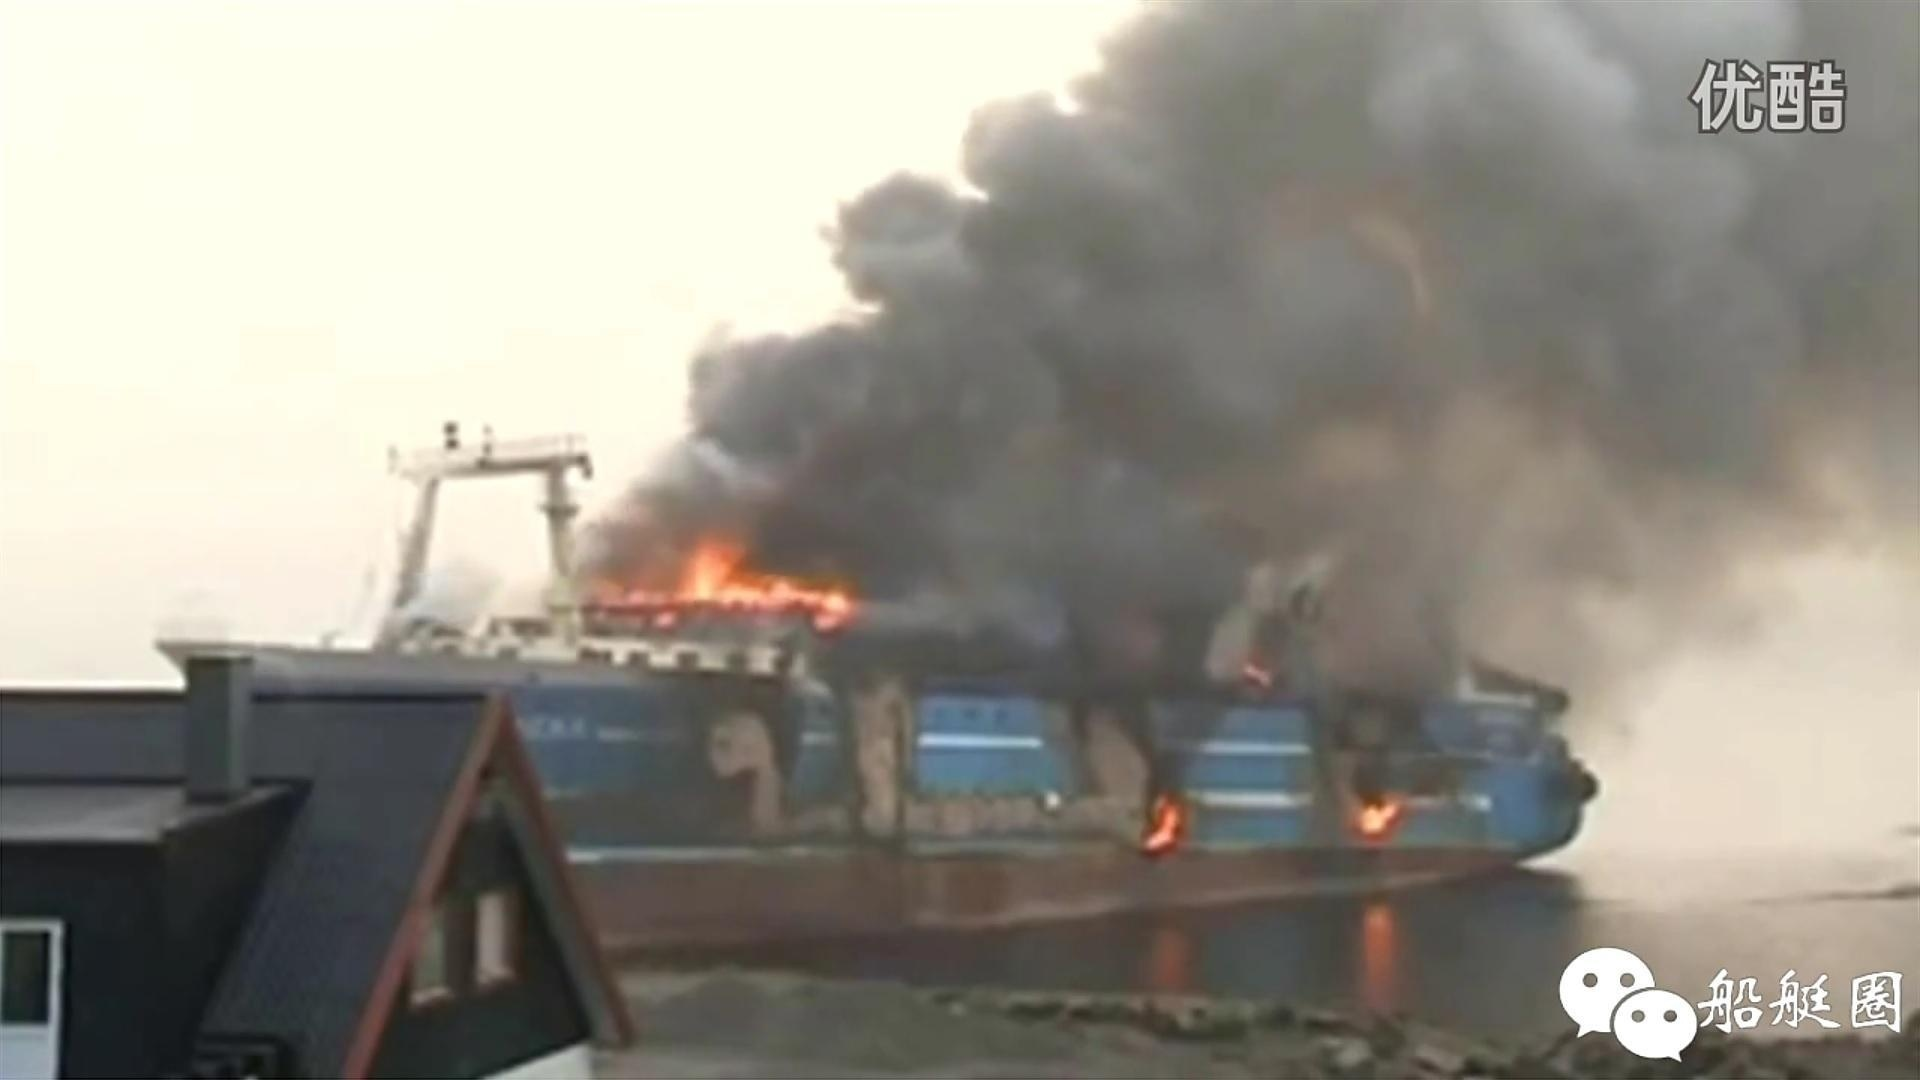fire: (662, 546, 852, 618), (1139, 796, 1185, 851)
